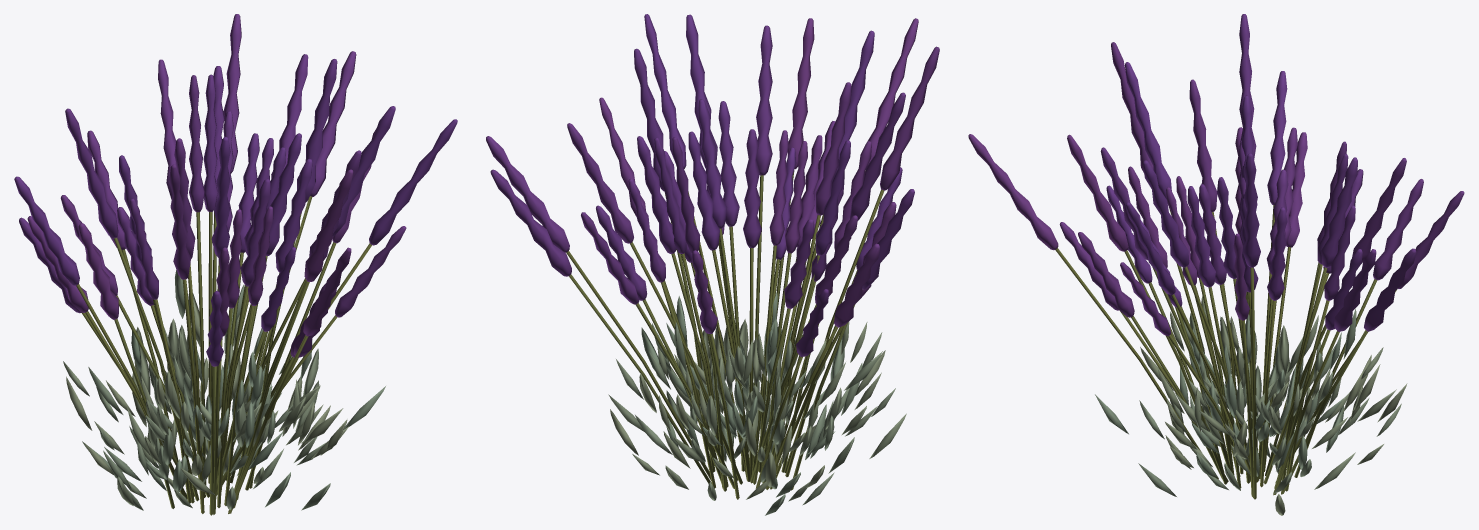
Rendered from potfill_lavender_dark.glb.
3 renders of one model, left to right at view 1: azimuth 30°, elevation 25°; view 2: azimuth 150°, elevation 25°; view 3: azimuth 270°, elevation 25°, orthographic. The views are drawn at different scales.
Parts seen in each view (by area): view 1: Sammel Pflanze, Sammel Putz; view 2: Sammel Pflanze, Sammel Putz; view 3: Sammel Pflanze, Sammel Putz.
Part boxes in pixels (bbox=[...]): Sammel Pflanze: bbox=[14, 14, 457, 510]; Sammel Putz: bbox=[76, 196, 372, 515]; Sammel Pflanze: bbox=[486, 14, 939, 515]; Sammel Putz: bbox=[566, 171, 884, 499]; Sammel Pflanze: bbox=[968, 14, 1464, 515]; Sammel Putz: bbox=[1055, 205, 1397, 499].
Size of the model in its own units: 0.4819 by 0.5147 by 0.571.
